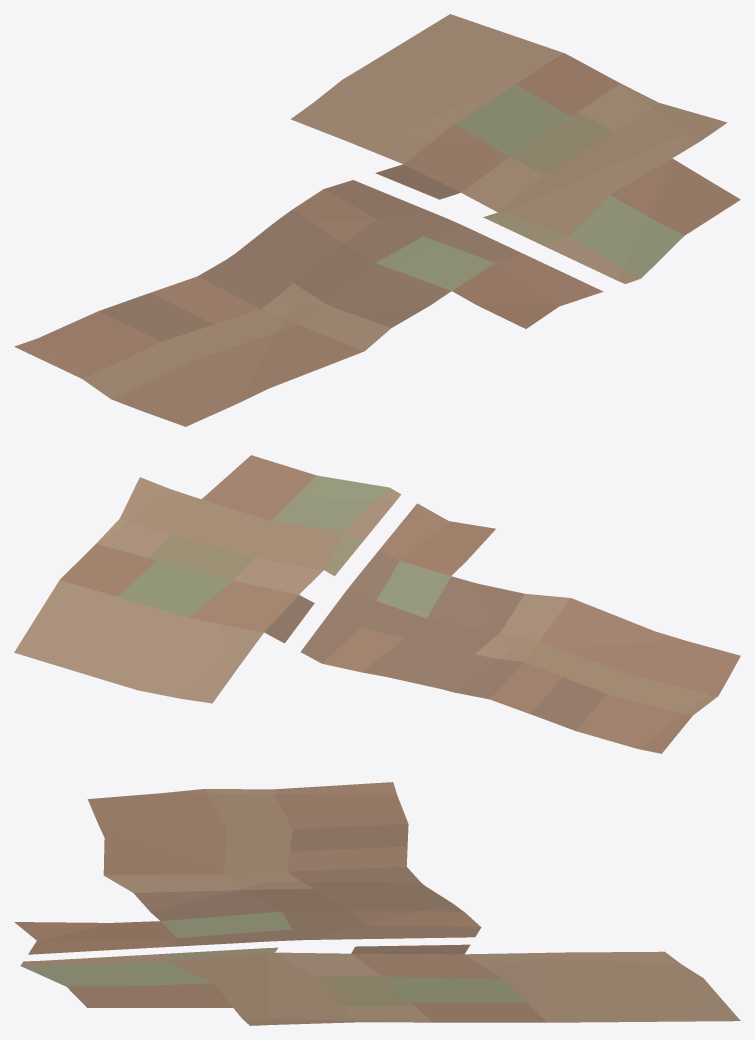
File: farm_-21_-30_soil.glb
3 renders of one model, top to bottom at view 1: azimuth 30°, elevation 25°; view 2: azimuth 150°, elevation 25°; view 3: azimuth 270°, elevation 25°, orthographic. The views are drawn at different scales.
Visible parts, largest first — view 1: geometry_0; view 2: geometry_0; view 3: geometry_0.
Part boxes in pixels (x1,y1,x2,y2): geometry_0: [14, 14, 740, 426]; geometry_0: [14, 455, 740, 753]; geometry_0: [14, 782, 740, 1025].
Size of the model in its own units: 263 by 42.18 by 217.
